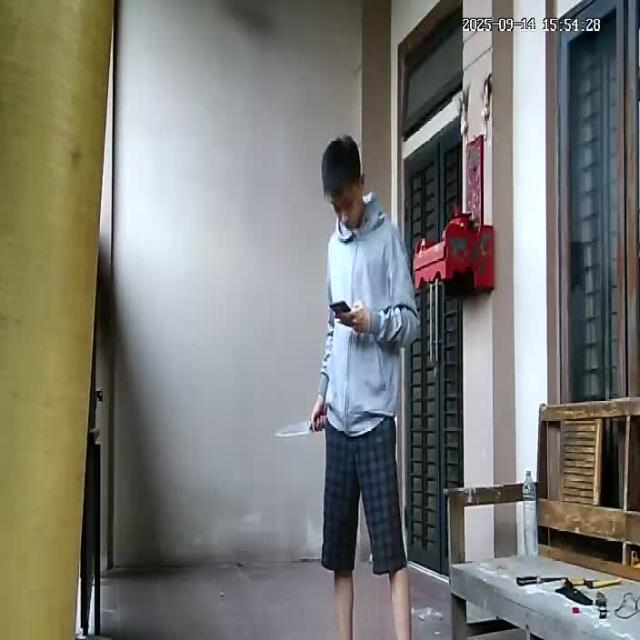senjata_tajam: (273, 418, 312, 438)
